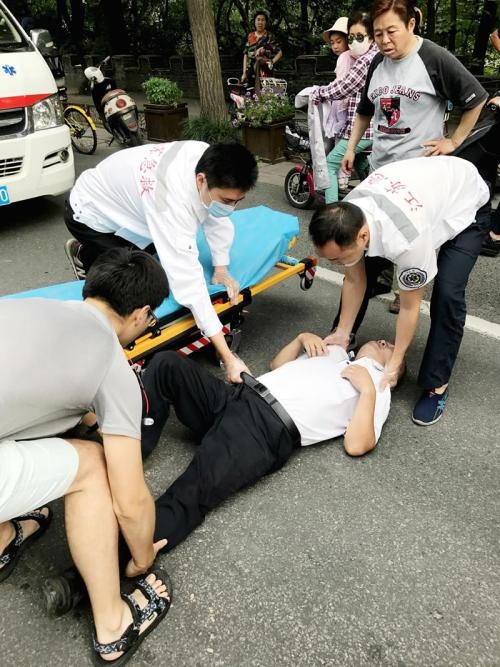falling: (95, 306, 411, 626)
